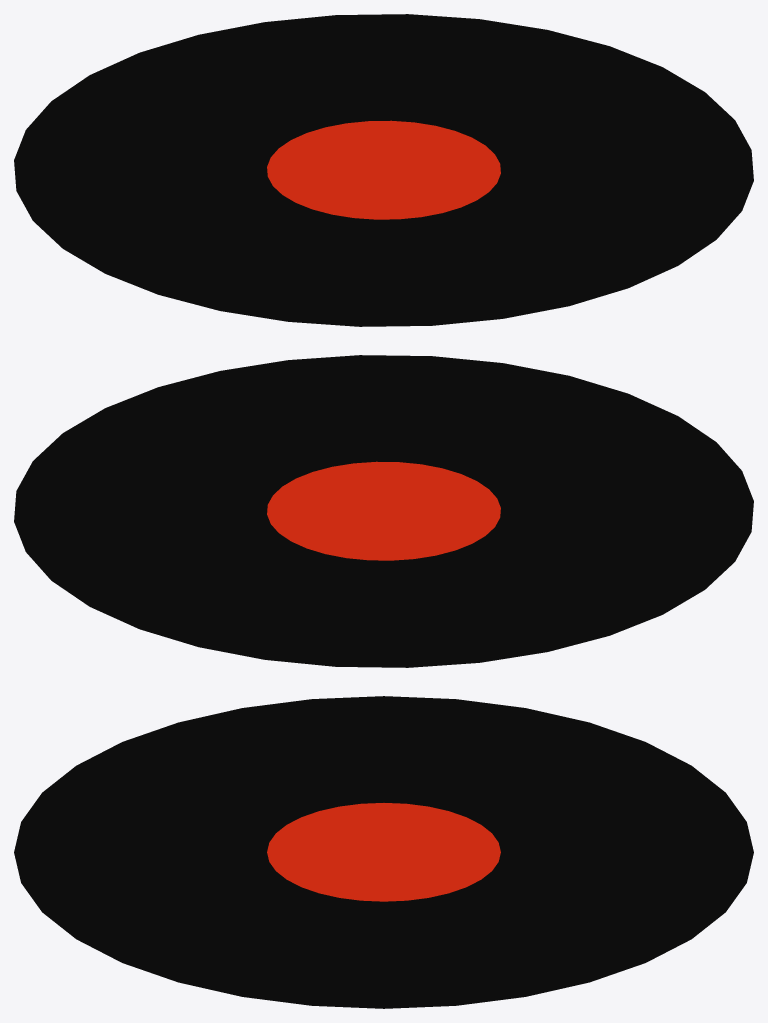
Rendered from vinyl_disk.glb.
3 renders of one model, top to bottom at view 1: azimuth 30°, elevation 25°; view 2: azimuth 150°, elevation 25°; view 3: azimuth 270°, elevation 25°, orthographic.
Visible parts, largest first — view 1: Circle; view 2: Circle; view 3: Circle.
Part boxes in pixels (box(x1,y1,x2,y2)): Circle: box(14, 14, 753, 326); Circle: box(14, 355, 753, 667); Circle: box(14, 696, 753, 1008).
Bounding box in the file's own units: 2 × 0.00101 × 2.
3 materials, 1 textured.
